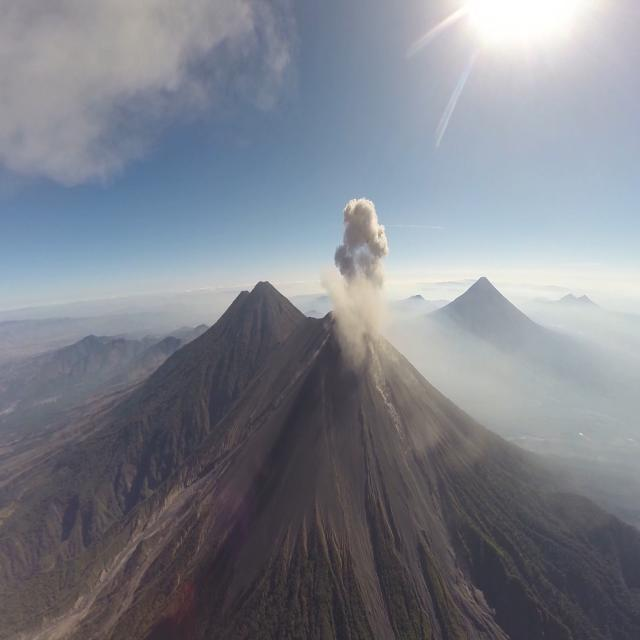Plume: (4, 0, 296, 201), (334, 192, 391, 304)
